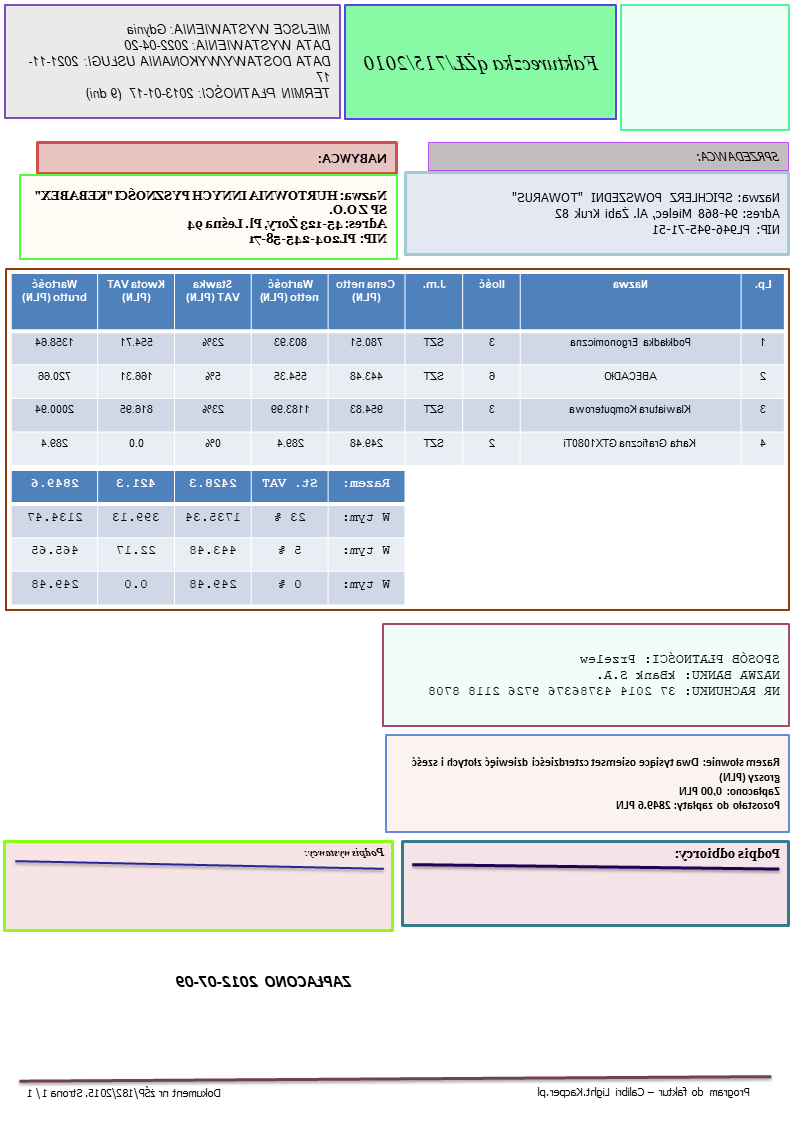Table: (13, 270, 786, 467), (10, 468, 406, 607)
TextBox: (27, 19, 333, 106), (410, 752, 783, 814), (30, 186, 391, 247), (426, 649, 783, 701), (509, 185, 784, 240), (362, 49, 604, 76), (536, 1082, 754, 1102), (173, 970, 354, 991), (24, 1083, 223, 1102), (674, 842, 784, 864), (304, 841, 388, 860), (697, 146, 782, 164), (318, 149, 391, 168)
